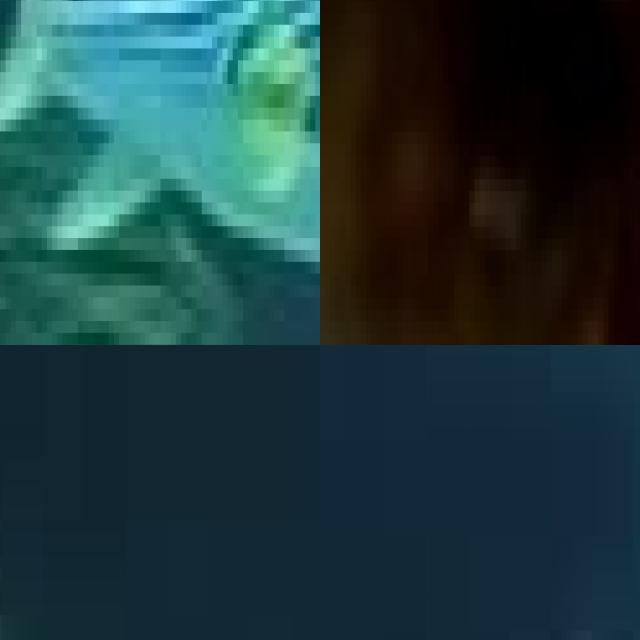fish: (0, 0, 320, 345), (320, 0, 640, 345)
